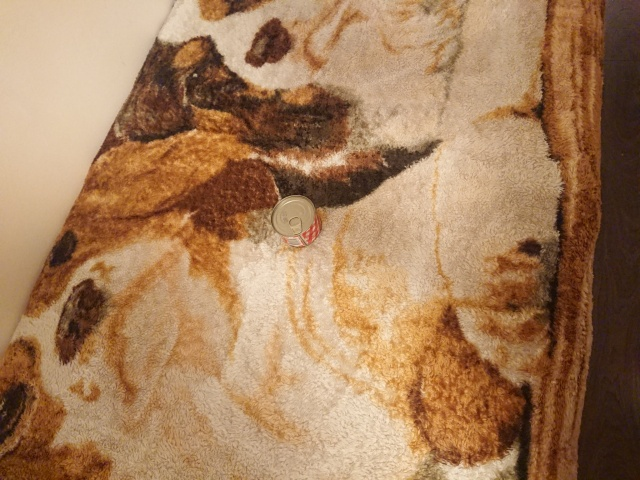Podravka Luncheon Meat 150g: (269, 193, 324, 250)
